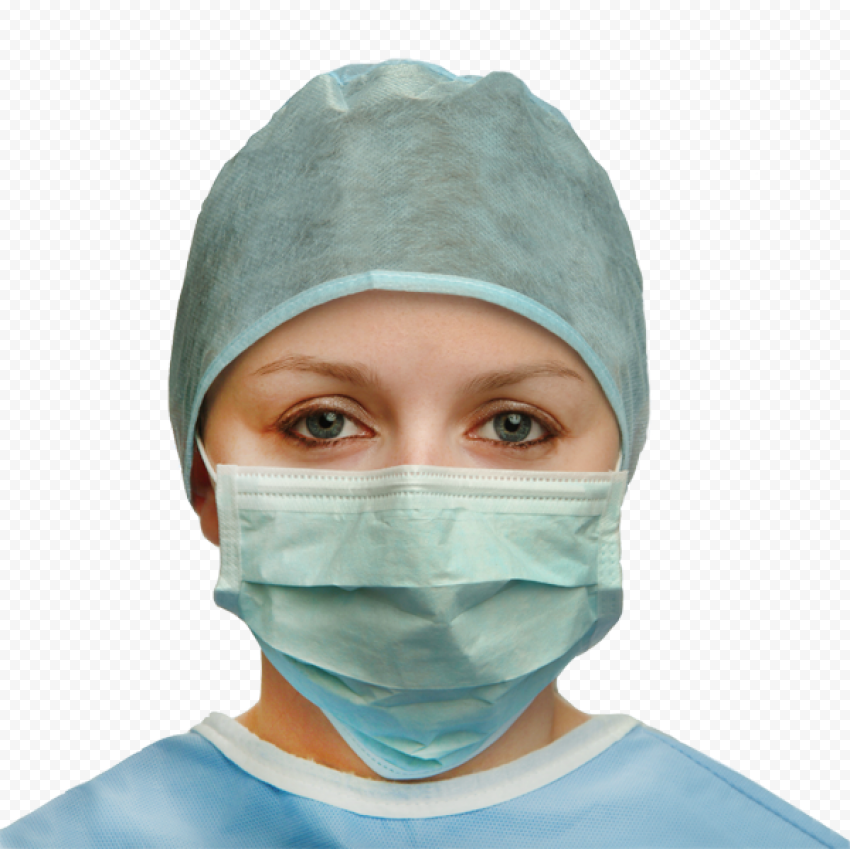with_mask_and_cap: (186, 64, 639, 785)
